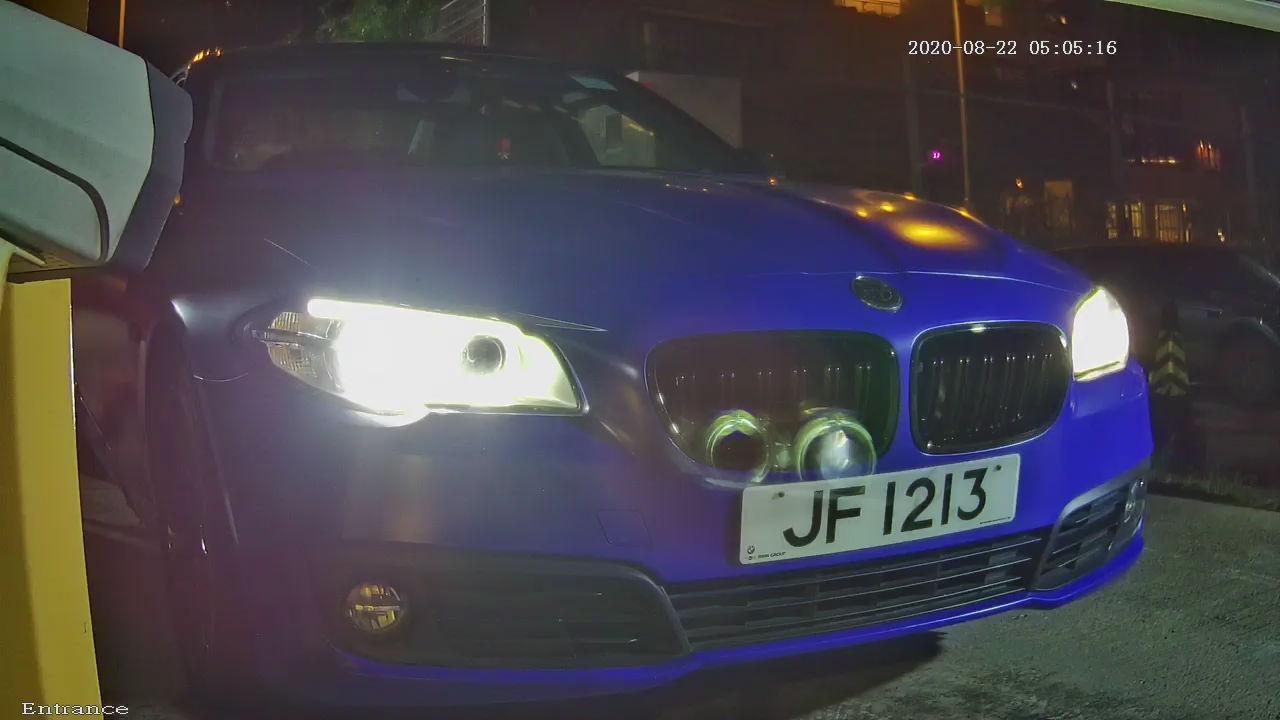Car: (63, 7, 1235, 701)
License Plate: (698, 427, 1047, 607)
